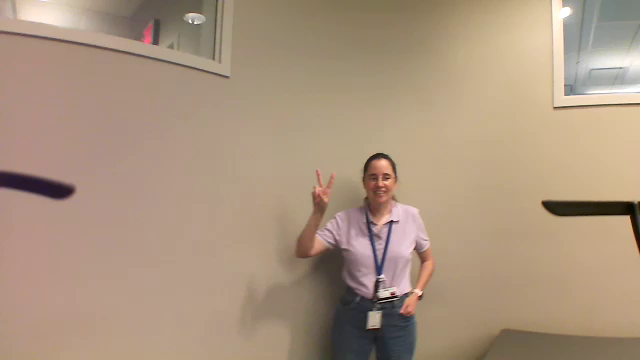peace: (305, 165, 340, 213)
